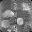people: (3, 9, 15, 18), (1, 19, 11, 28), (17, 18, 24, 26)
